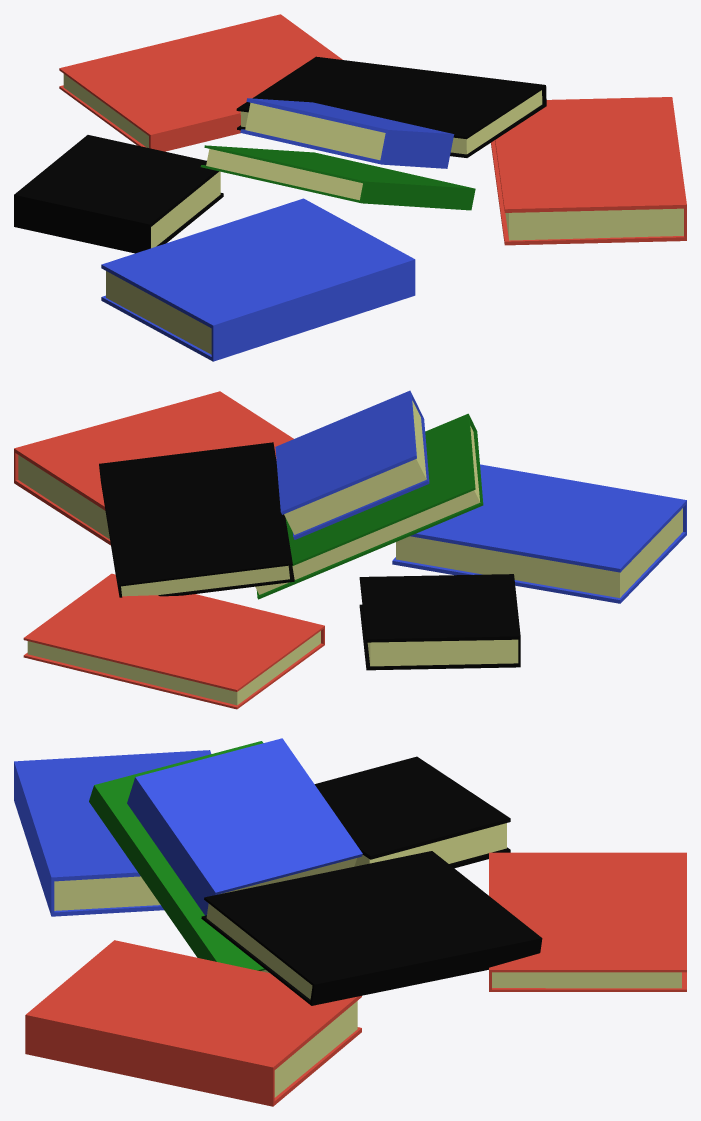
Rendered from Pilha de Livros 2 .fbx.
3 views of the same model, one above another, from view 1: azimuth 30°, elevation 25°; view 2: azimuth 150°, elevation 25°; view 3: azimuth 270°, elevation 25° (orthographic). The views are drawn at different scales.
Visible parts, largest first — view 1: Cube.001, Cube.004, Cube, Cube.002, Cube.003, Cube.006, Cube.005; view 2: Cube.001, Cube.003, Cube, Cube.004, Cube.002, Cube.005, Cube.006; view 3: Cube.004, Cube.003, Cube, Cube.005, Cube.001, Cube.002, Cube.006.
Part boxes in pixels (box(x1,y1,x2,y2)): Cube.001: box(101, 198, 415, 361); Cube.004: box(491, 97, 686, 245); Cube: box(59, 14, 342, 151); Cube.002: box(14, 135, 223, 253); Cube.003: box(236, 56, 546, 157); Cube.006: box(200, 145, 475, 210); Cube.005: box(240, 98, 454, 168); Cube.001: box(392, 464, 686, 603); Cube.003: box(99, 442, 294, 597); Cube: box(23, 573, 324, 709); Cube.004: box(14, 391, 293, 545); Cube.002: box(359, 574, 520, 670); Cube.005: box(275, 390, 429, 539); Cube.006: box(255, 413, 483, 599); Cube.004: box(25, 940, 361, 1106); Cube.003: box(201, 851, 542, 1005); Cube: box(489, 852, 686, 991); Cube.005: box(127, 738, 362, 915); Cube.001: box(14, 750, 211, 916); Cube.002: box(314, 756, 510, 868); Cube.006: box(89, 741, 269, 972).
Bounding box in the file's own units: 162 × 36.22 × 145.
